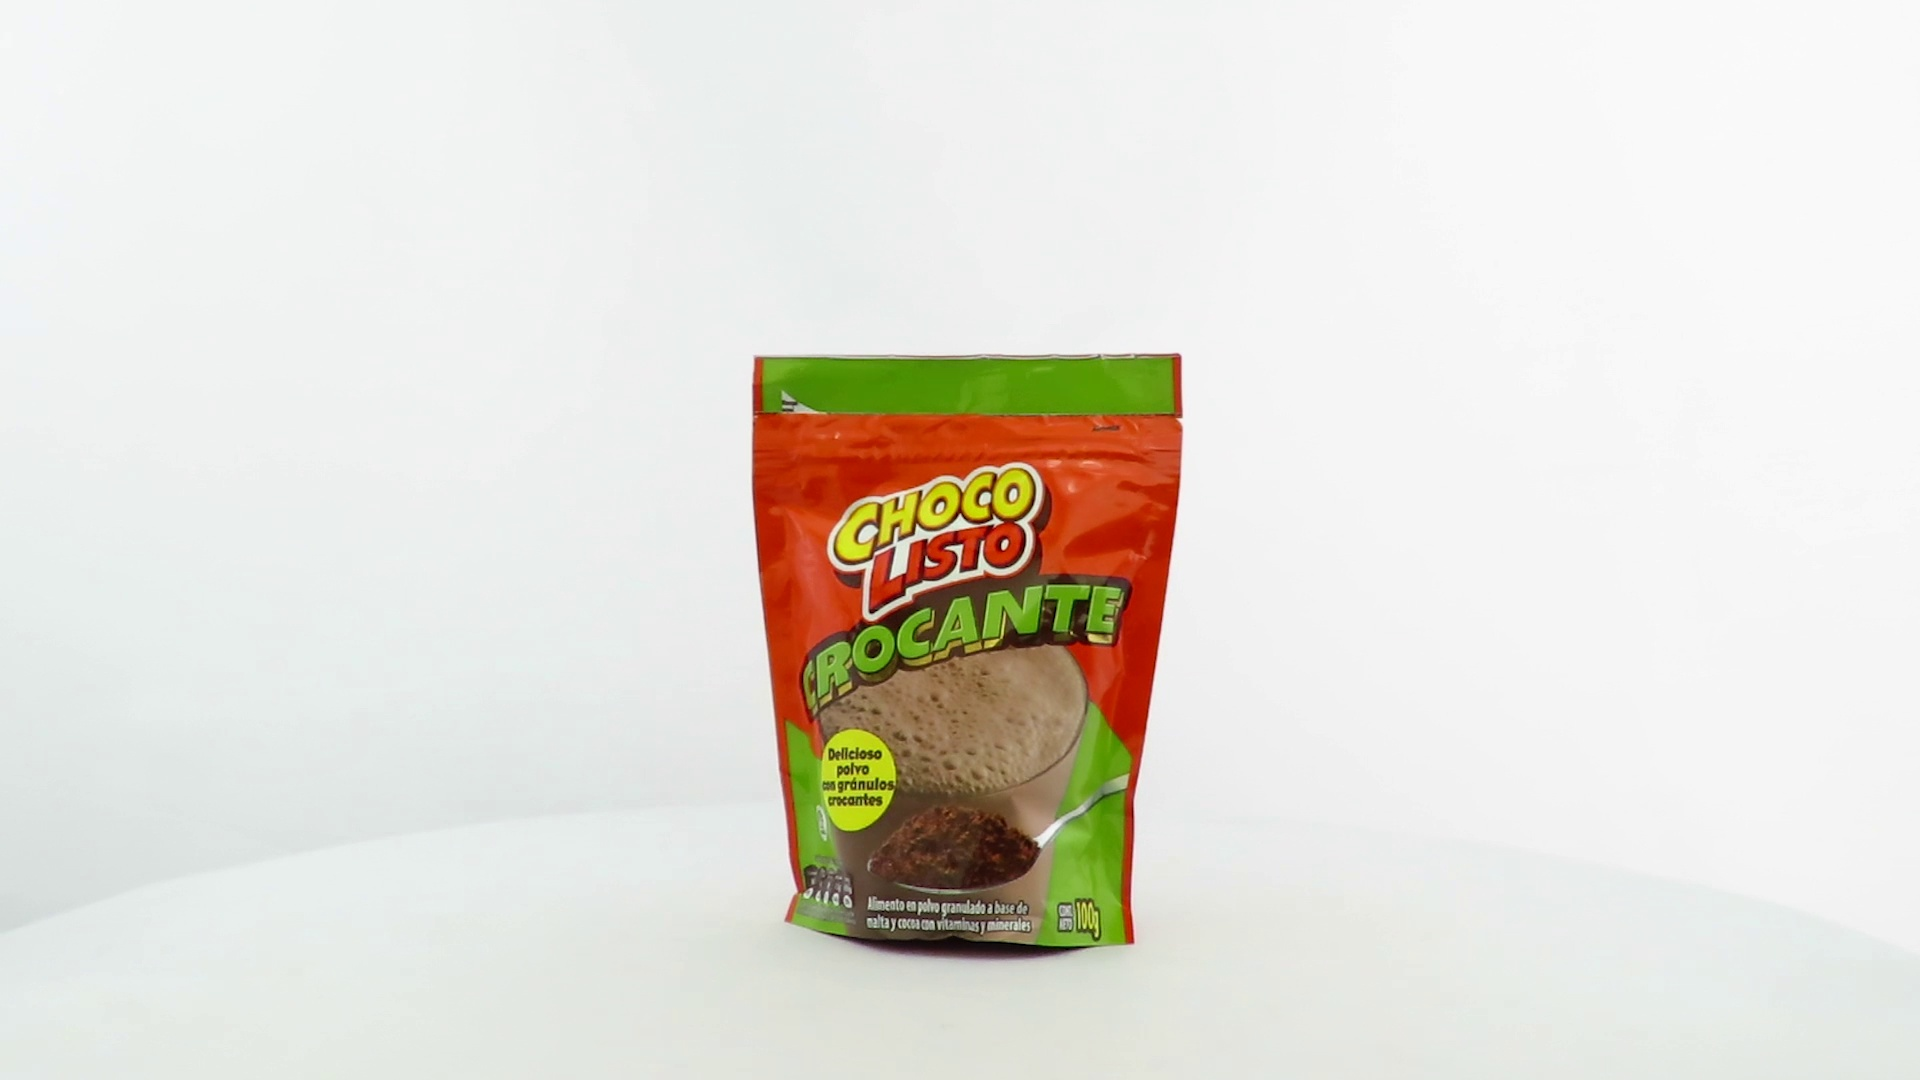COL0170102DYP10000: (746, 348, 1189, 967)
